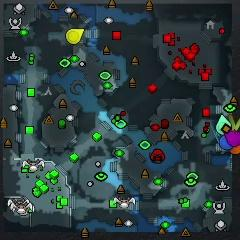p1: (220, 135, 232, 151)
p2: (216, 114, 231, 136)
p3: (225, 131, 240, 146)
p4: (66, 28, 84, 44)
p5: (229, 145, 240, 155)
x2: (228, 115, 240, 130)
